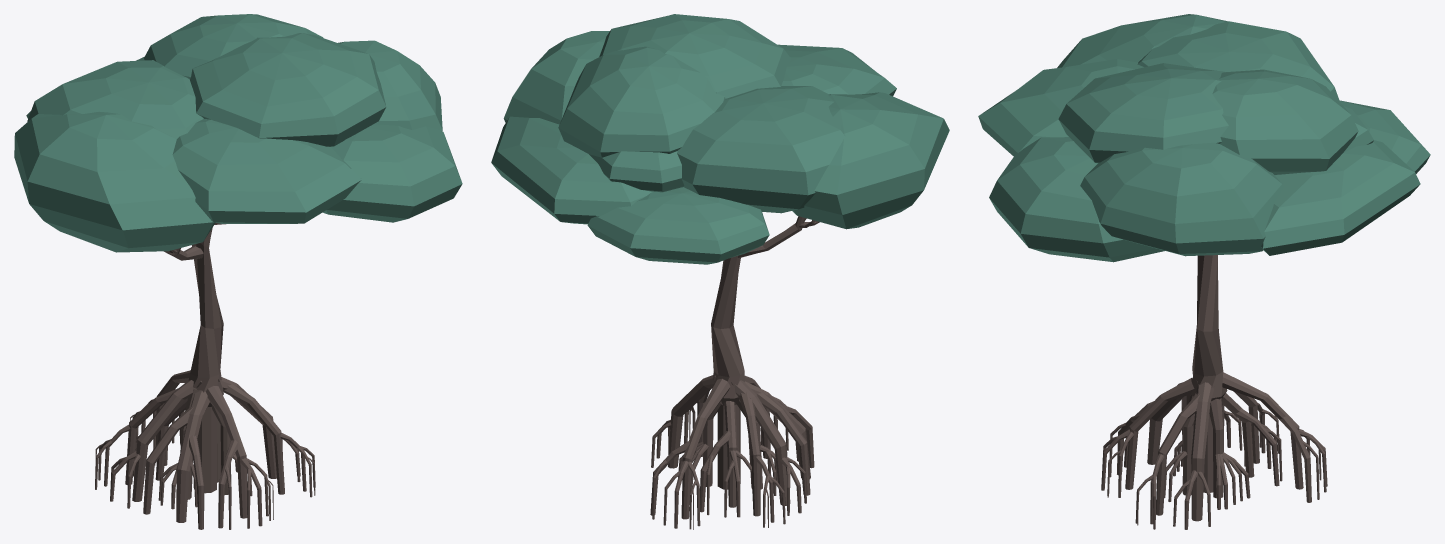
The model's file is arvoreMangue.fbx.
The picture shows the model from 3 angles, left to right: view 1: azimuth 30°, elevation 25°; view 2: azimuth 150°, elevation 25°; view 3: azimuth 270°, elevation 25°; orthographic projection. The views are drawn at different scales.
Visible parts, largest first — view 1: copa_geo, tronco_geo, raiz_ramificacao_geo1 (×4), raiz_principal_geo4, raiz_principal_geo5, raiz_principal_geo1, raiz_principal_geo2, raiz_ramificacao_geo2; view 2: copa_geo, tronco_geo, raiz_ramificacao_geo1 (×3), raiz_principal_geo3 (×2), raiz_principal_geo4, raiz_principal_geo2, ramo_principal_geo; view 3: copa_geo, tronco_geo, raiz_ramificacao_geo1 (×4), raiz_principal_geo2 (×2), raiz_principal_geo3 (×2), raiz_principal_geo1 (×2), raiz_principal_geo5.
Boxes of the visible parts, left/top/right/bottom form: copa_geo: left=14, top=14, right=462, bottom=252; tronco_geo: left=188, top=228, right=223, bottom=493; raiz_ramificacao_geo1 (×4): left=125, top=382, right=284, bottom=528; raiz_principal_geo4: left=132, top=379, right=219, bottom=501; raiz_principal_geo5: left=176, top=390, right=209, bottom=522; raiz_principal_geo1: left=205, top=386, right=247, bottom=518; raiz_principal_geo2: left=196, top=377, right=276, bottom=478; raiz_ramificacao_geo2: left=189, top=435, right=204, bottom=529; copa_geo: left=491, top=14, right=949, bottom=264; tronco_geo: left=711, top=256, right=744, bottom=489; raiz_ramificacao_geo1 (×3): left=700, top=391, right=810, bottom=516; raiz_principal_geo3 (×2): left=681, top=378, right=737, bottom=519; raiz_principal_geo4: left=714, top=375, right=790, bottom=505; raiz_principal_geo2: left=668, top=375, right=733, bottom=468; ramo_principal_geo: left=738, top=216, right=805, bottom=257; copa_geo: left=978, top=14, right=1430, bottom=262; tronco_geo: left=1191, top=255, right=1227, bottom=492; raiz_ramificacao_geo1 (×4): left=1156, top=391, right=1311, bottom=515; raiz_principal_geo2 (×2): left=1191, top=382, right=1223, bottom=521; raiz_principal_geo3 (×2): left=1221, top=372, right=1303, bottom=489; raiz_principal_geo1 (×2): left=1125, top=378, right=1194, bottom=495; raiz_principal_geo5: left=1147, top=382, right=1183, bottom=464.
Size of the model in its own units: 4.15 by 4.21 by 3.93.
